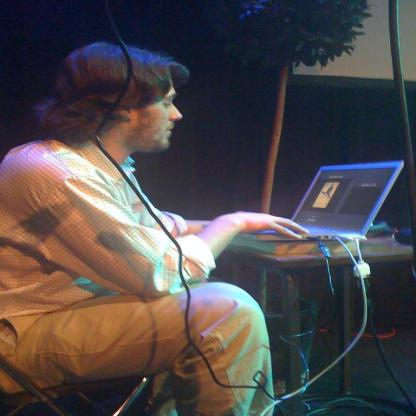board: (203, 163, 405, 242)
